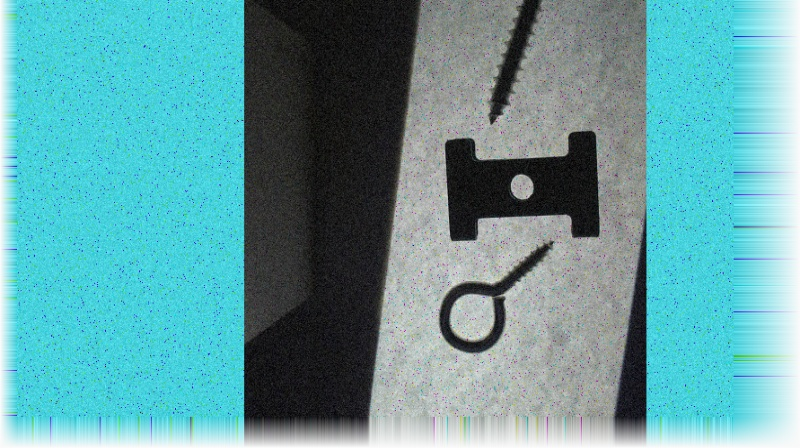O001: (436, 240, 555, 355)
O002: (444, 127, 600, 246)
S001: (484, 0, 568, 128)
